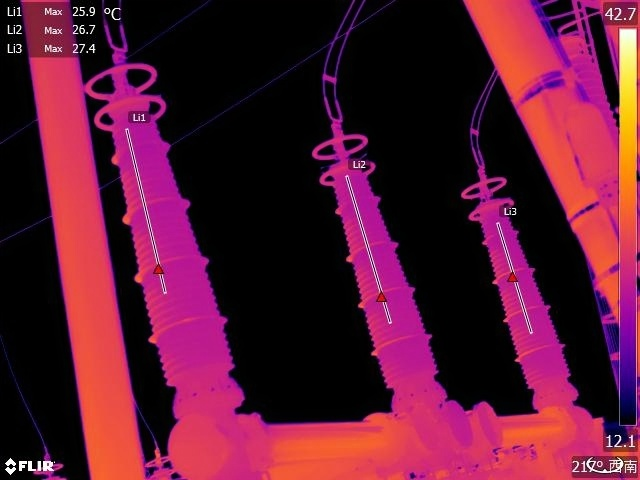tube: (82, 50, 247, 390), (314, 121, 439, 379), (460, 160, 577, 390)
